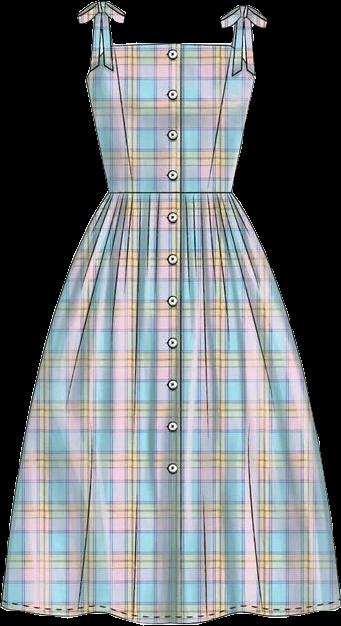Bodice: (77, 0, 266, 194)
Hemline: (0, 602, 340, 625)
Neckline: (103, 1, 238, 48)
Skirt: (0, 190, 339, 624)
Waistline: (107, 187, 233, 199)
